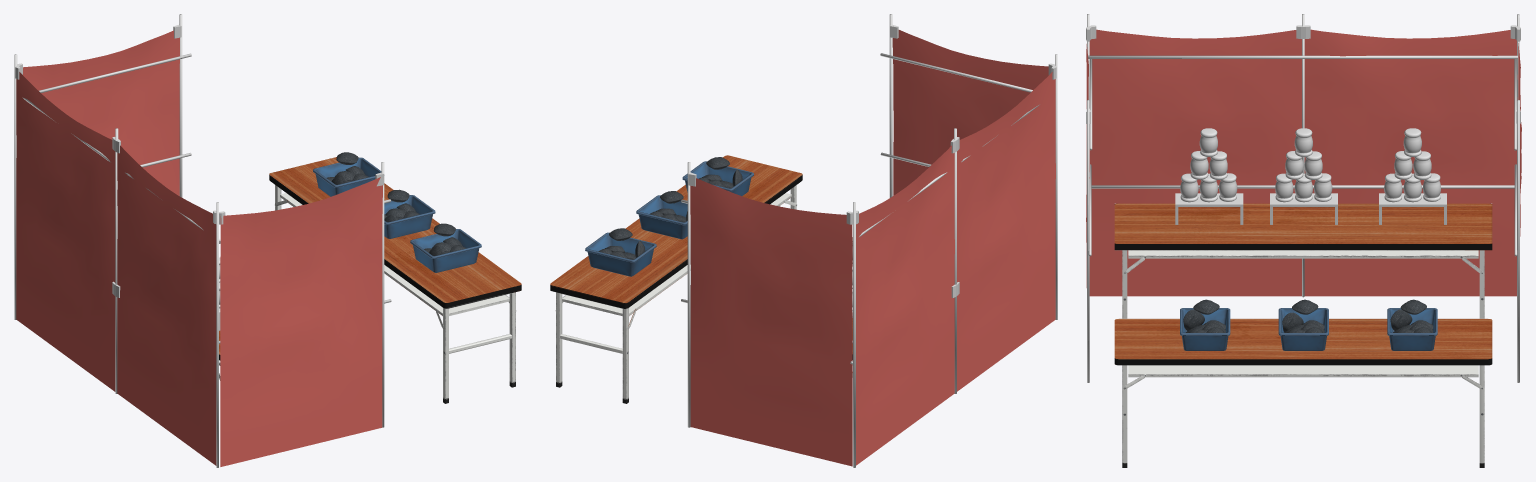
The model's file is DSBstaion.fbx.
3 views of the same model, side by side, from view 1: azimuth 30°, elevation 25°; view 2: azimuth 150°, elevation 25°; view 3: azimuth 270°, elevation 25° (orthographic). The views are drawn at different scales.
Visible parts, largest first — view 1: Curtain_low, Cube.001, Cylinder.007, Cube.025, Cube.037, Cube.002; view 2: Curtain_low, Cube.001, Cylinder.007, Cube.002, Cube.037, Cube.025; view 3: Curtain_low, Cube, Cube.001, Cylinder.007, Cube.037, Cube.002, Cube.025, seat.005, seat.002, seat.003, pin.003, pin.002 (+13 smaller).
Part boxes in pixels (x1,y1,x2,y2): Curtain_low: (15,25,384,466); Cube.001: (269,157,521,403); Cylinder.007: (14,14,391,467); Cube.025: (410,229,481,272); Cube.037: (384,195,435,239); Cube.002: (313,157,381,196); Curtain_low: (688,25,1056,466); Cube.001: (550,155,802,403); Cylinder.007: (681,14,1057,467); Cube.002: (585,232,656,276); Cube.037: (636,195,687,239); Cube.025: (682,161,753,195); Curtain_low: (1086,25,1521,296); Cube: (1114,203,1492,318); Cube.001: (1114,318,1492,467); Cylinder.007: (1087,14,1519,382); Cube.037: (1278,308,1328,350); Cube.002: (1387,308,1437,350); Cube.025: (1180,308,1230,350); seat.005: (1175,193,1243,224); seat.002: (1379,193,1446,224); seat.003: (1270,193,1337,224); pin.003: (1294,128,1312,156); pin.002: (1403,128,1421,156).
Size of the model in its own units: 312 by 254 by 346.
